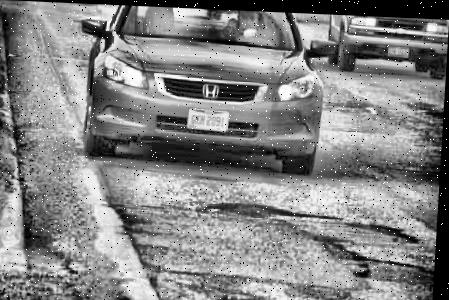pothole: (204, 197, 291, 219), (190, 292, 381, 300)
